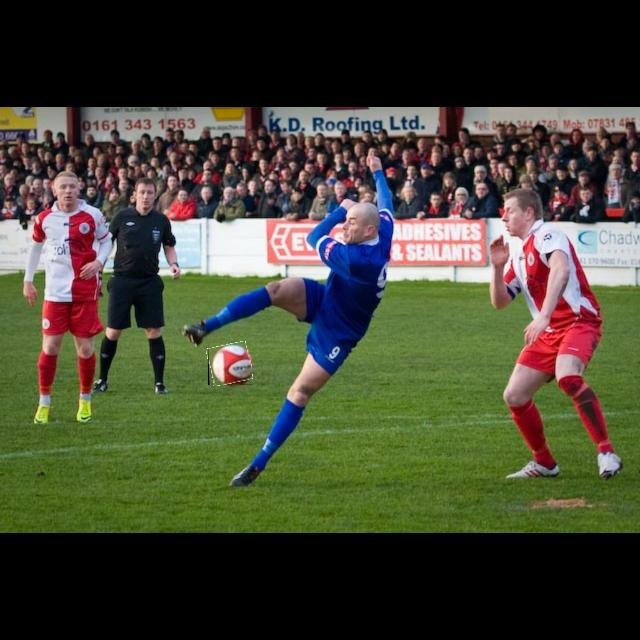Football: (208, 343, 252, 385)
